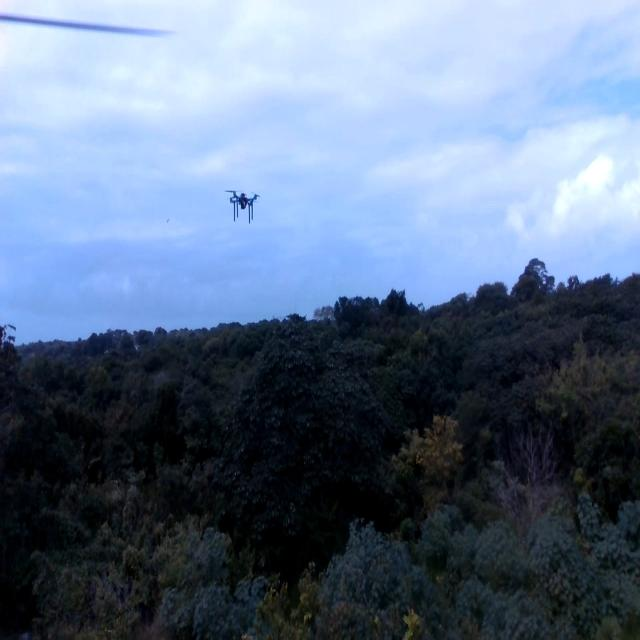-uav-: (216, 176, 269, 236)
